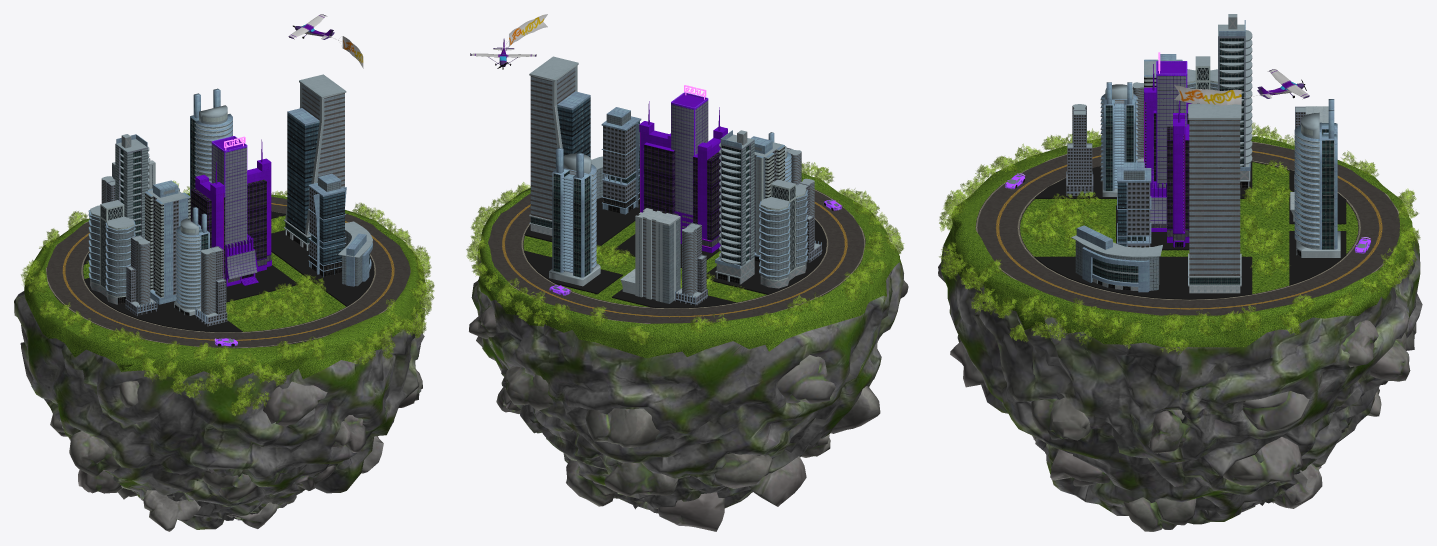
The model's file is island1.glb.
3 views of the same model, side by side, from view 1: azimuth 30°, elevation 25°; view 2: azimuth 150°, elevation 25°; view 3: azimuth 270°, elevation 25° (orthographic). The views are drawn at different scales.
Visible parts, largest first — view 1: Road, Main_Building, Bushes, Rocks, building_Base, Plane; view 2: Road, Main_Building, Rocks, Bushes, building_Base, Banner; view 3: Road, Main_Building, Bushes, Rocks, building_Base, Banner, Plane.
Boxes of the visible parts, x1,y1,x2,y2 form: Road: (14, 193, 426, 529); Main_Building: (88, 74, 372, 326); Bushes: (21, 180, 434, 415); Rocks: (20, 325, 422, 531); building_Base: (84, 211, 374, 332); Plane: (288, 14, 334, 39); Road: (471, 173, 903, 513); Main_Building: (529, 56, 822, 306); Rocks: (469, 280, 908, 531); Bushes: (466, 162, 904, 344); building_Base: (524, 197, 826, 308); Banner: (505, 14, 547, 46); Road: (941, 136, 1422, 524); Main_Building: (1066, 14, 1340, 293); Bushes: (939, 122, 1420, 354); Rocks: (938, 262, 1416, 531); building_Base: (1034, 160, 1346, 299); Banner: (1174, 85, 1260, 105); Plane: (1257, 69, 1309, 98).
Size of the model in its own units: 41.48 by 46.61 by 41.16.
Materials: 17 (10 with a texture image).
